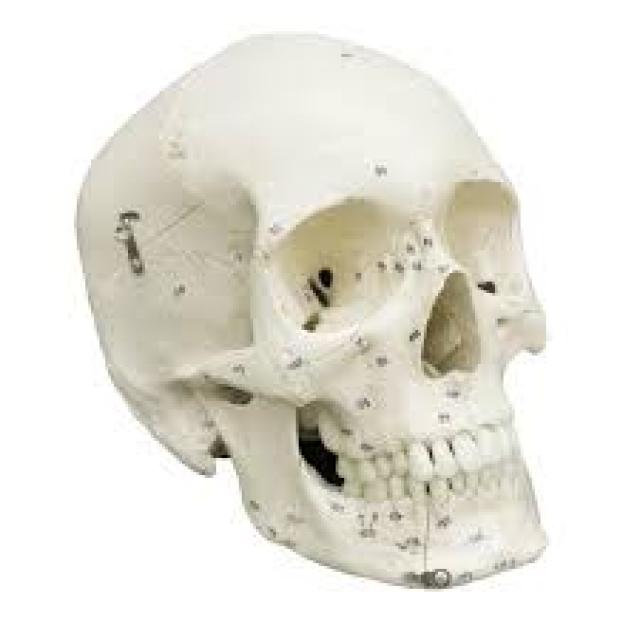skull: (64, 26, 592, 589)
